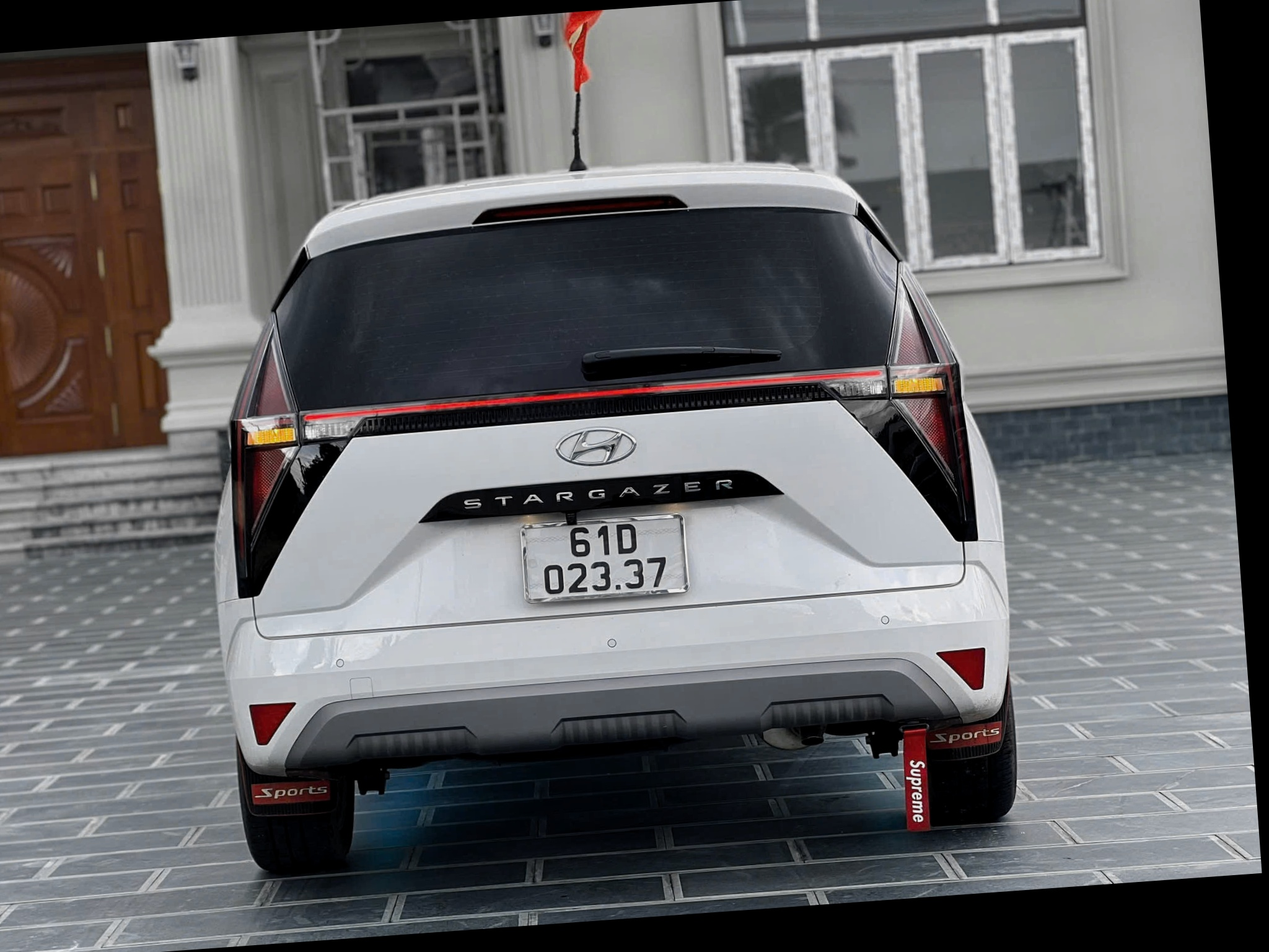Bien-so: (565, 512, 743, 619)
